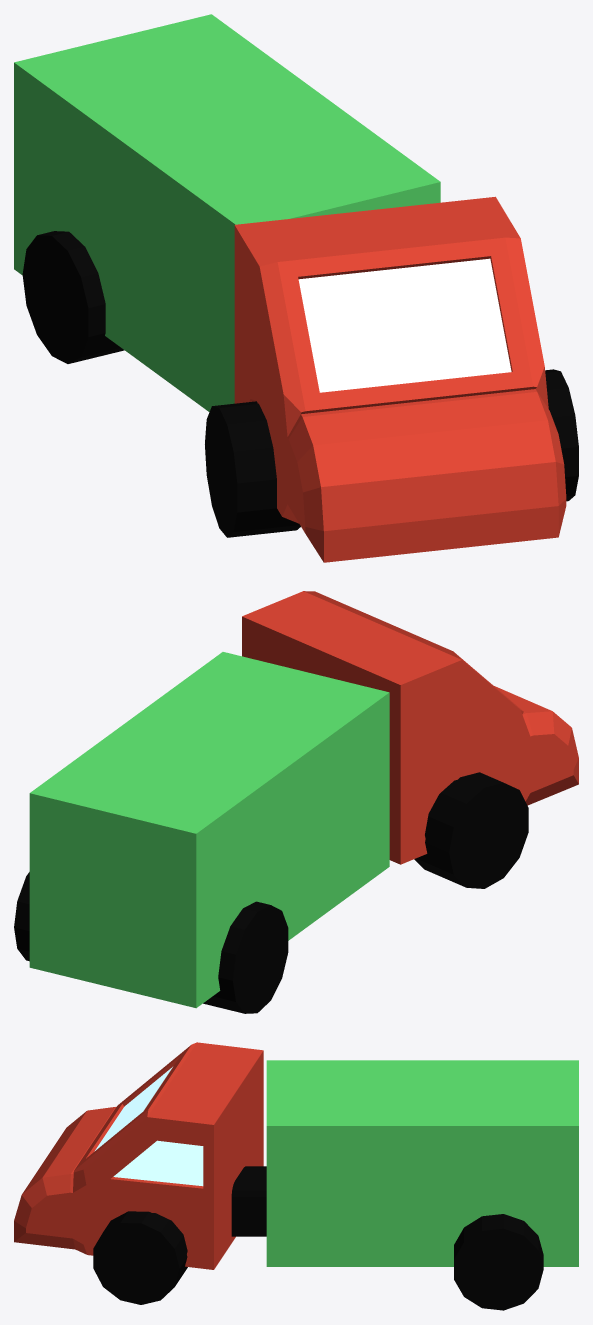
The model's file is Truck.fbx.
The picture shows the model from 3 angles, top to bottom: view 1: azimuth 30°, elevation 25°; view 2: azimuth 150°, elevation 25°; view 3: azimuth 270°, elevation 25°; orthographic projection. The views are drawn at different scales.
Parts seen in each view (by area): view 1: Truck; view 2: Truck; view 3: Truck.
Boxes of the visible parts, left/top/right/bottom form: Truck: left=14, top=14, right=578, bottom=562; Truck: left=14, top=591, right=578, bottom=1013; Truck: left=14, top=1042, right=578, bottom=1310.
Bounding box in the file's own units: 1270 × 973 × 2786.
